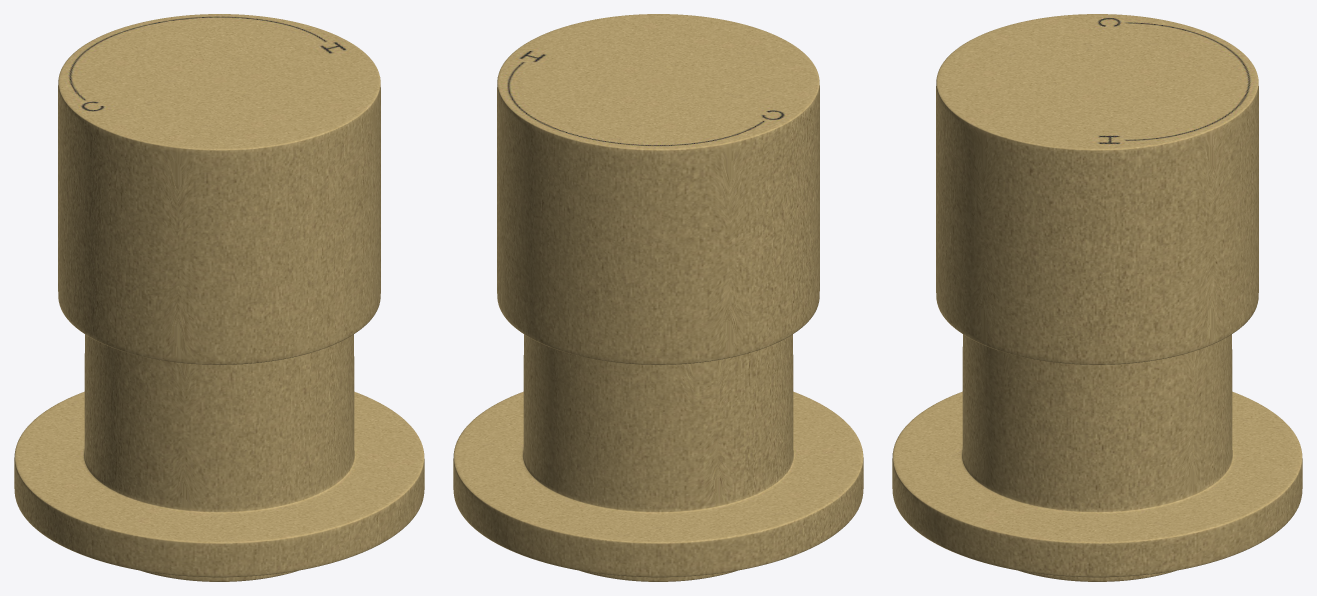
File: wall mixer.obj
3 views of the same model, side by side, from view 1: azimuth 30°, elevation 25°; view 2: azimuth 150°, elevation 25°; view 3: azimuth 270°, elevation 25° (orthographic).
Parts seen in each view (by area): view 1: Cylinder; view 2: Cylinder; view 3: Cylinder.
Boxes of the visible parts, x1,y1,x2,y2 form: Cylinder: [14, 14, 424, 581]; Cylinder: [453, 14, 863, 581]; Cylinder: [892, 14, 1302, 581].
Bounding box in the file's own units: 0.0605 × 0.0725 × 0.0605.
Materials: 1 (1 with a texture image).
